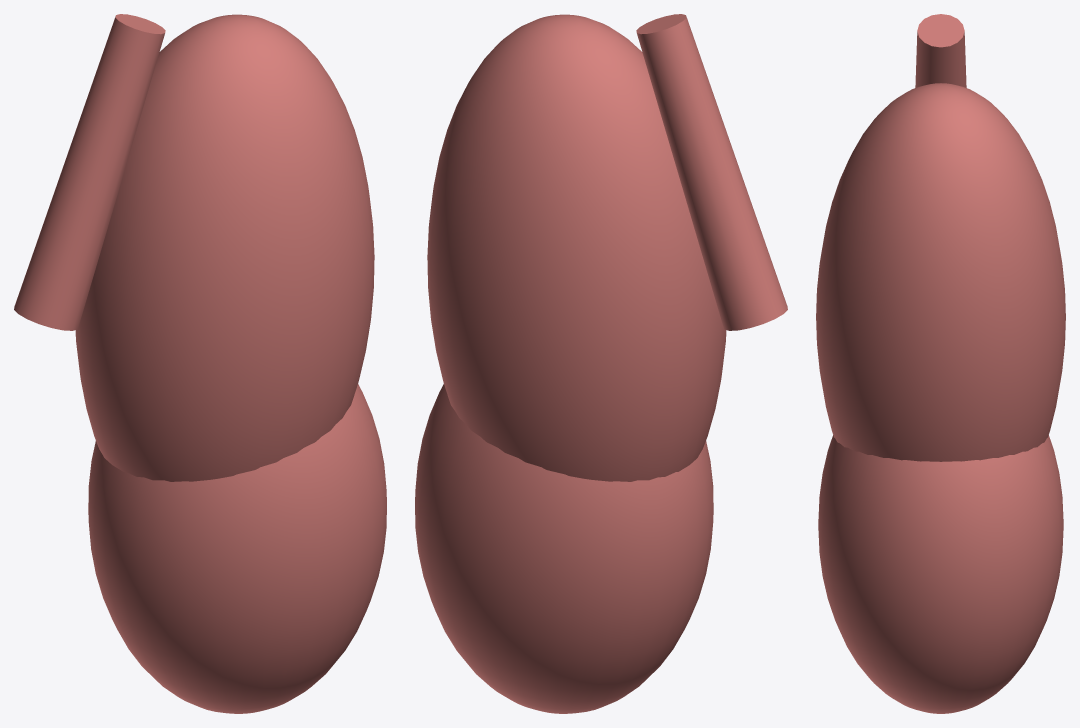
File: right_lung.glb
3 renders of one model, left to right at view 1: azimuth 30°, elevation 25°; view 2: azimuth 150°, elevation 25°; view 3: azimuth 270°, elevation 25°, orthographic. The views are drawn at different scales.
Parts seen in each view (by area): view 1: Right_lung_placeholder; view 2: Right_lung_placeholder; view 3: Right_lung_placeholder.
Boxes of the visible parts, box(x1,y1,x2,y2) form: Right_lung_placeholder: box(14, 14, 386, 713); Right_lung_placeholder: box(415, 14, 787, 713); Right_lung_placeholder: box(816, 14, 1065, 713).
Bounding box in the file's own units: 0.5369 × 1.04 × 0.3696.
